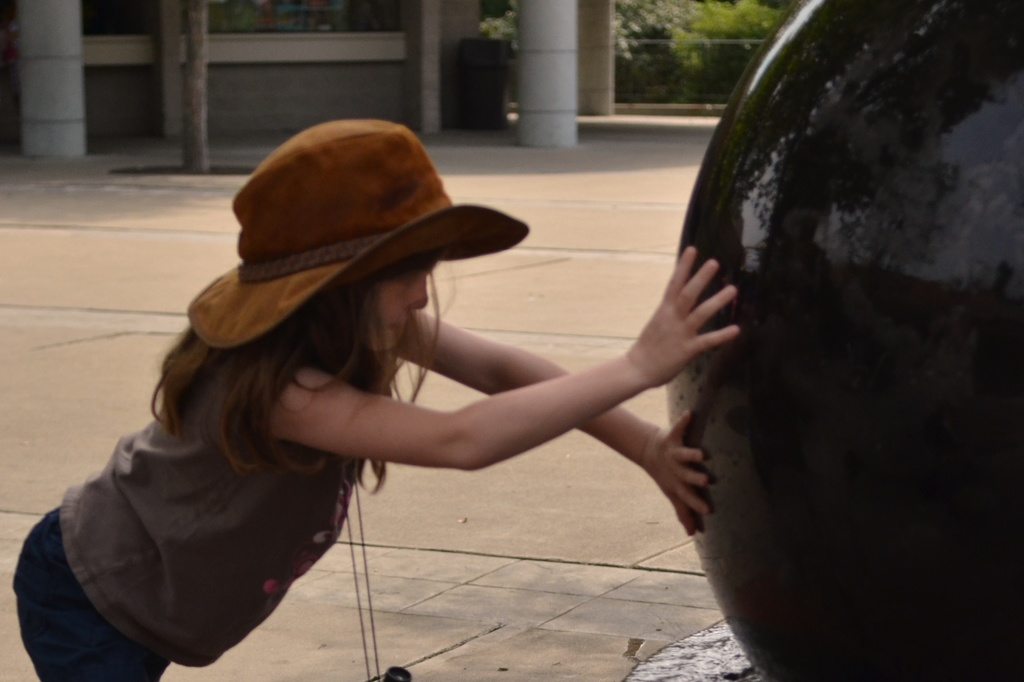Human_hand: (620, 247, 759, 417), (636, 406, 710, 535)
